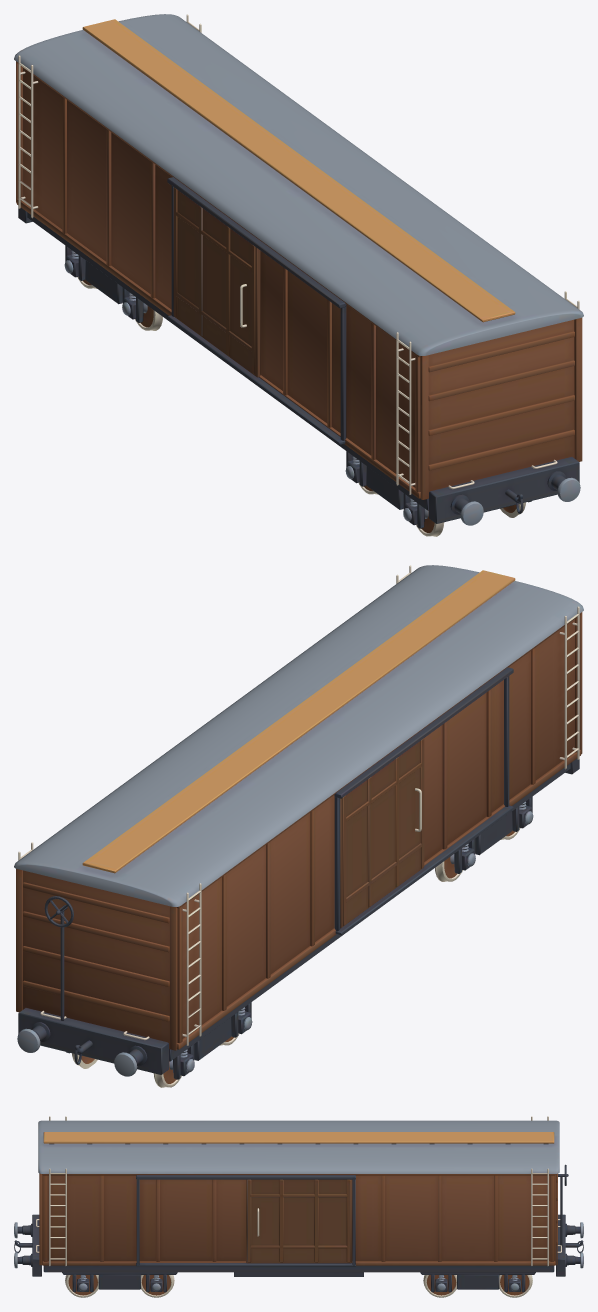
File: boxcar.glb
3 views of the same model, one above another, from view 1: azimuth 30°, elevation 25°; view 2: azimuth 150°, elevation 25°; view 3: azimuth 270°, elevation 25° (orthographic). The views are drawn at different scales.
Parts seen in each view (by area): view 1: boxcar_body; view 2: boxcar_body; view 3: boxcar_body.
Part boxes in pixels (box(x1,y1,x2,y2)): boxcar_body: box(14, 14, 583, 536); boxcar_body: box(14, 565, 583, 1087); boxcar_body: box(14, 1116, 583, 1297).
Bounding box in the file's own units: 3.28 × 3.99 × 14.
1 material, 1 textured.
